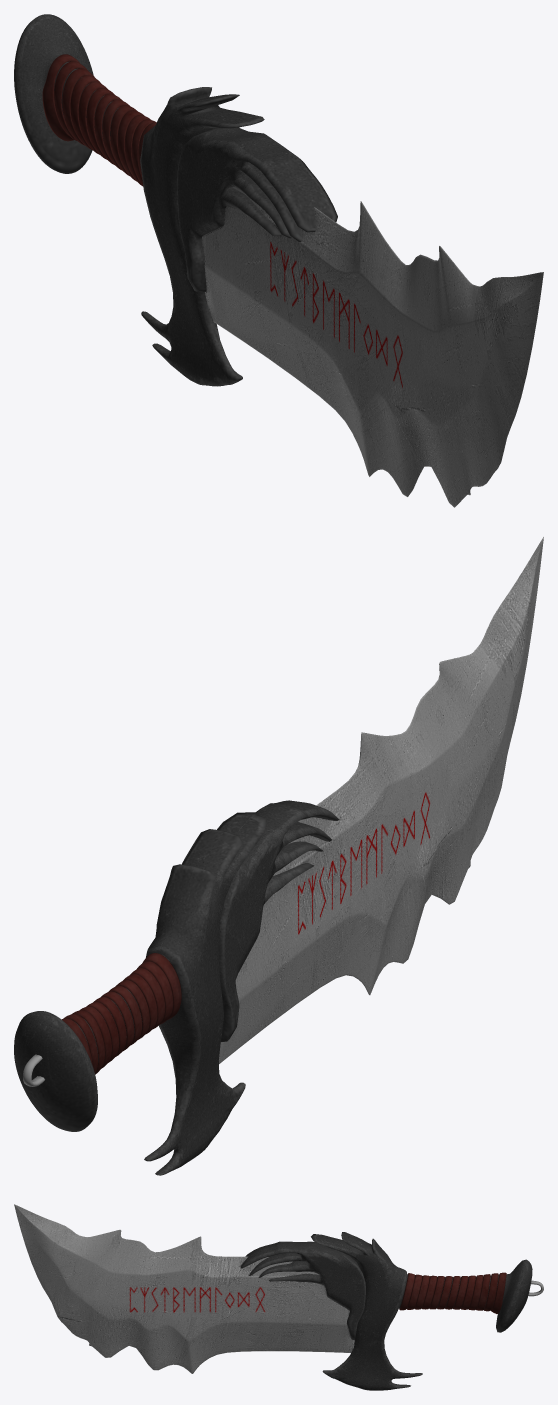
Rendered from blade_of_chaos_21k.fbx.
3 views of the same model, one above another, from view 1: azimuth 30°, elevation 25°; view 2: azimuth 150°, elevation 25°; view 3: azimuth 270°, elevation 25° (orthographic). The views are drawn at different scales.
Parts seen in each view (by area): view 1: Chaos_blade_;); view 2: Chaos_blade_;); view 3: Chaos_blade_;).
Part boxes in pixels (<box>): Chaos_blade_;): <box>14,14,543,507</box>; Chaos_blade_;): <box>14,537,543,1175</box>; Chaos_blade_;): <box>14,1204,543,1390</box>.
Bounding box in the file's own units: 10.99 × 49.91 × 128.
